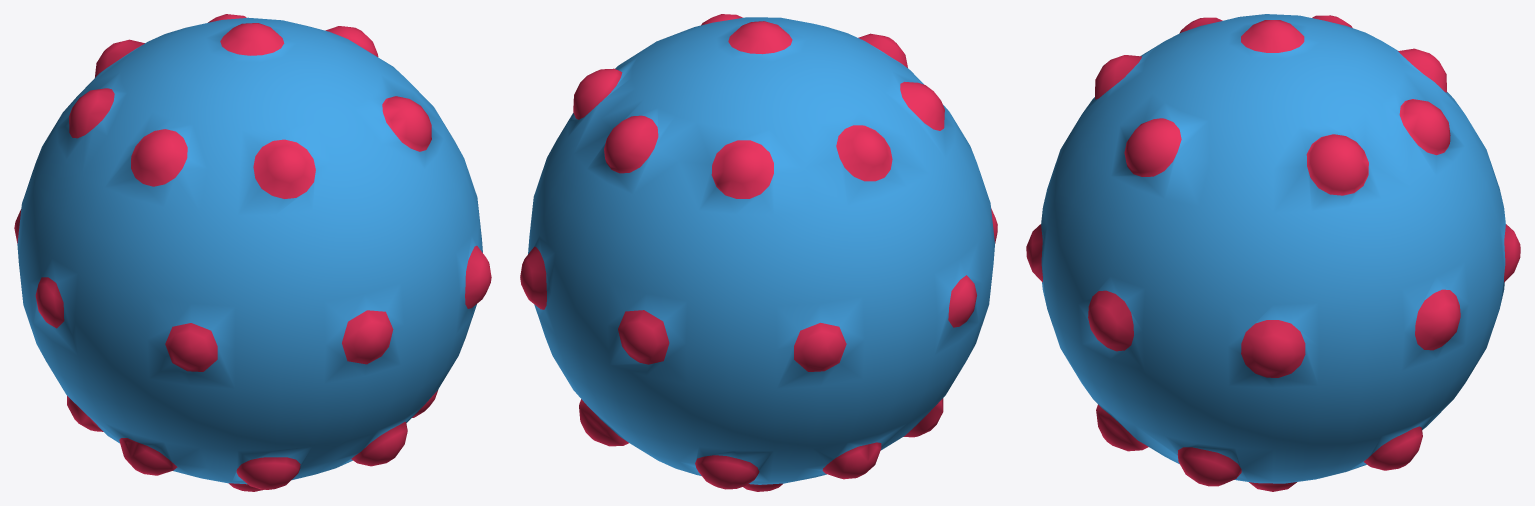
File: ball .fbx
3 views of the same model, side by side, from view 1: azimuth 30°, elevation 25°; view 2: azimuth 150°, elevation 25°; view 3: azimuth 270°, elevation 25° (orthographic).
Visible parts, largest first — view 1: Sphere; view 2: Sphere; view 3: Sphere.
Boxes of the visible parts, <box> form: Sphere: <box>14,14,491,491</box>; Sphere: <box>520,14,997,491</box>; Sphere: <box>1026,14,1520,491</box>.
Bounding box in the file's own units: 2149 × 2235 × 2149.
